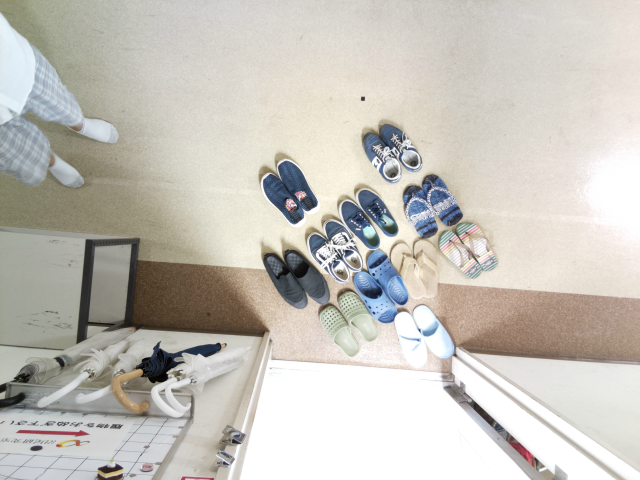Copy of Copy of Copy of Copy of Copy of Copy of Copy of Copy of Copy of Copy of: (416, 166, 470, 229), (398, 176, 446, 242), (362, 249, 413, 311), (333, 286, 383, 348), (350, 266, 400, 328), (452, 218, 502, 276), (314, 301, 362, 360), (389, 309, 434, 371), (413, 299, 458, 361), (409, 235, 448, 302), (391, 241, 430, 308), (436, 227, 485, 278)
Copy of Copy of Copy of Copy of Copy of Copy of Copy of Copy of Copy of shoe: (352, 181, 403, 239)
Copy of Copy of Copy of Copy of Copy of Copy of Copy of Copy of shoe: (334, 194, 386, 250)
Copy of Copy of Copy of Copy of Copy of Copy of Copy of shoe: (319, 212, 367, 278)
Copy of Copy of Copy of Copy of Copy of Copy of shoe: (300, 226, 353, 288)
Copy of Copy of Copy of Copy of Copy of shoe: (275, 239, 334, 309)
Copy of Copy of Copy of Copy of Copy of umbrella: (1, 317, 142, 410)
Copy of Copy of Copy of Copy of shoe: (255, 244, 314, 314)
Copy of Copy of Copy of Copy of umbrella: (31, 323, 147, 413)
Copy of Copy of Copy of shoe: (375, 117, 429, 174)
Copy of Copy of Copy of umbrella: (68, 325, 156, 417)
Copy of Copy of shoe: (357, 127, 404, 186)
Copy of Copy of umbrella: (107, 335, 229, 420)
Copy of shoe: (270, 153, 322, 210)
Copy of umbrella: (163, 348, 255, 426)
foot: (61, 101, 122, 151), (33, 143, 88, 198)
shoe: (256, 169, 308, 226)
umbrella: (148, 338, 256, 426)
